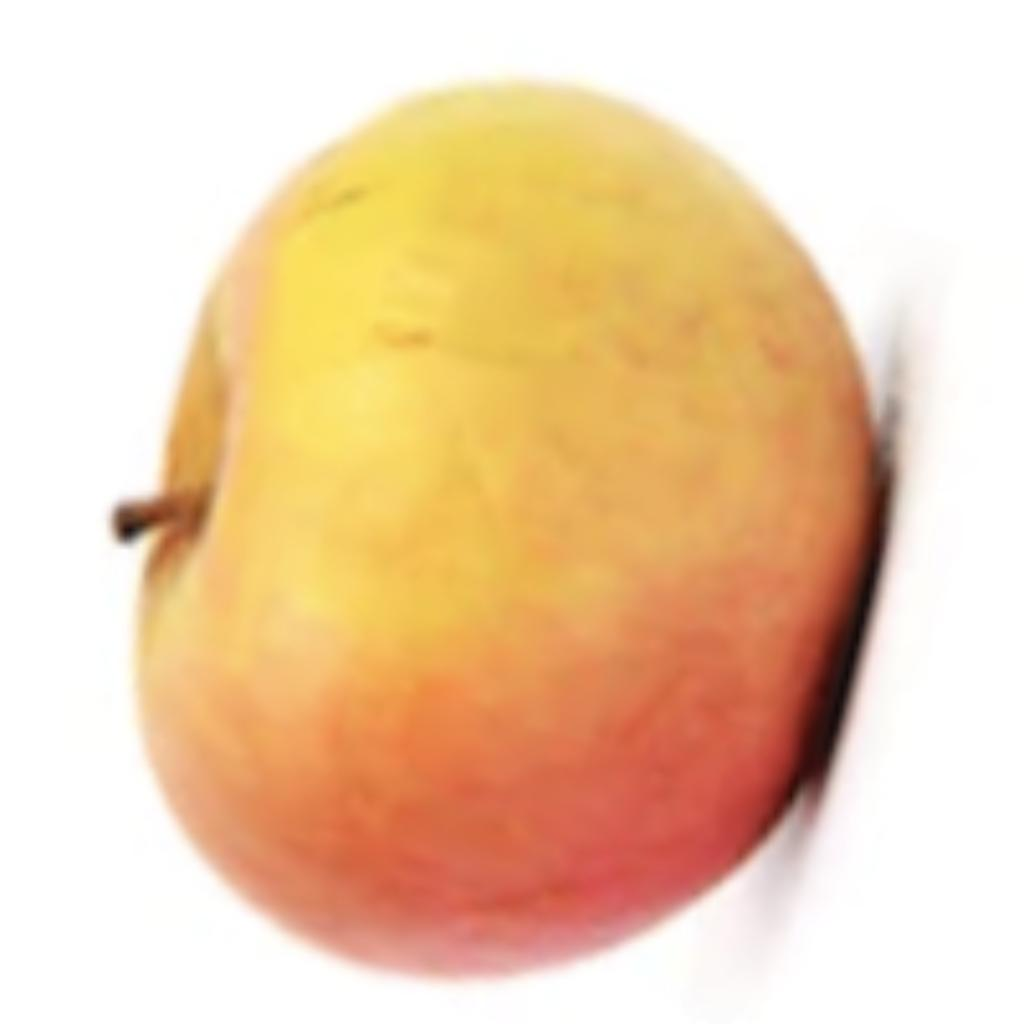apple: (97, 67, 947, 993)
